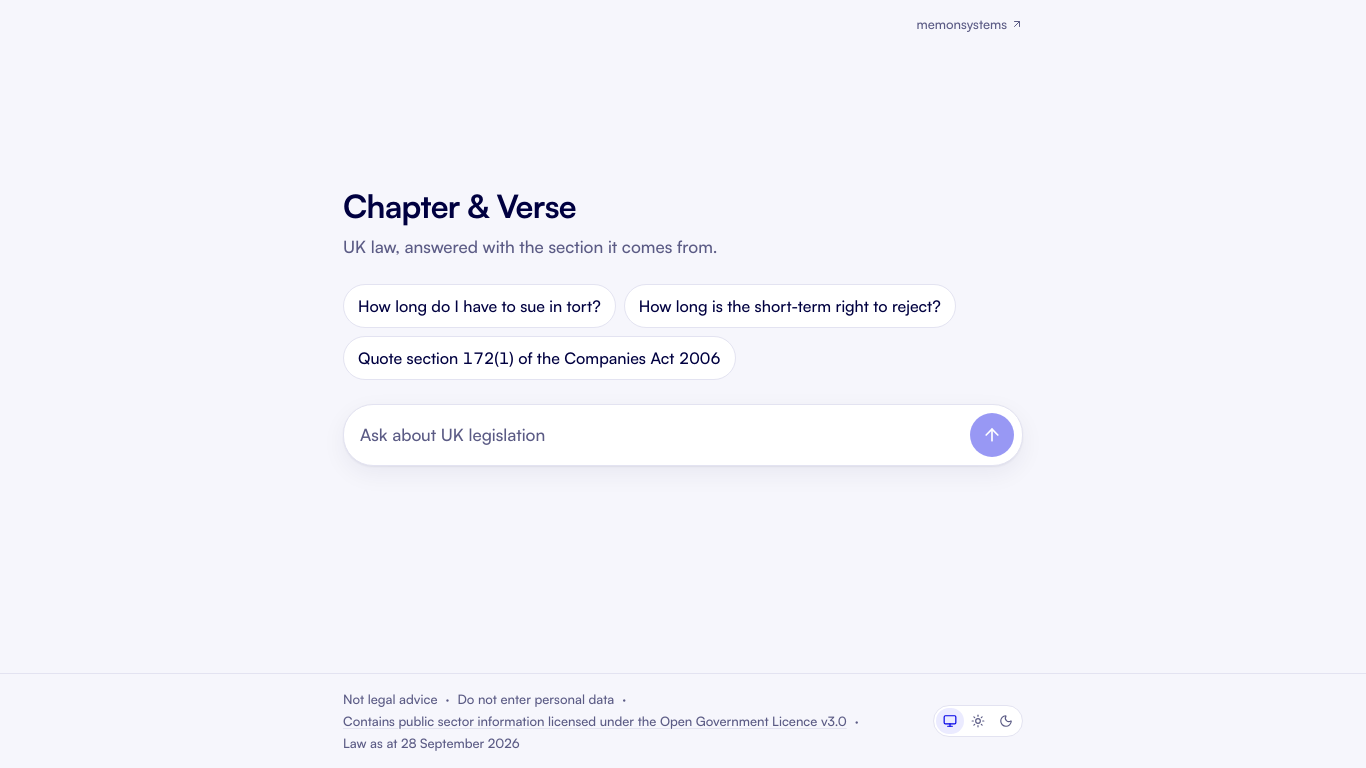
Test case: App empty state and shell › resets to the empty state, clears and focuses the composer, scrolls to top, and aborts an in-flight stream on Start over
In the text box with placeholder "Ask about UK legislation": [661, 435] box [360,413,962,457], type "In-flight question"
Then press Enter
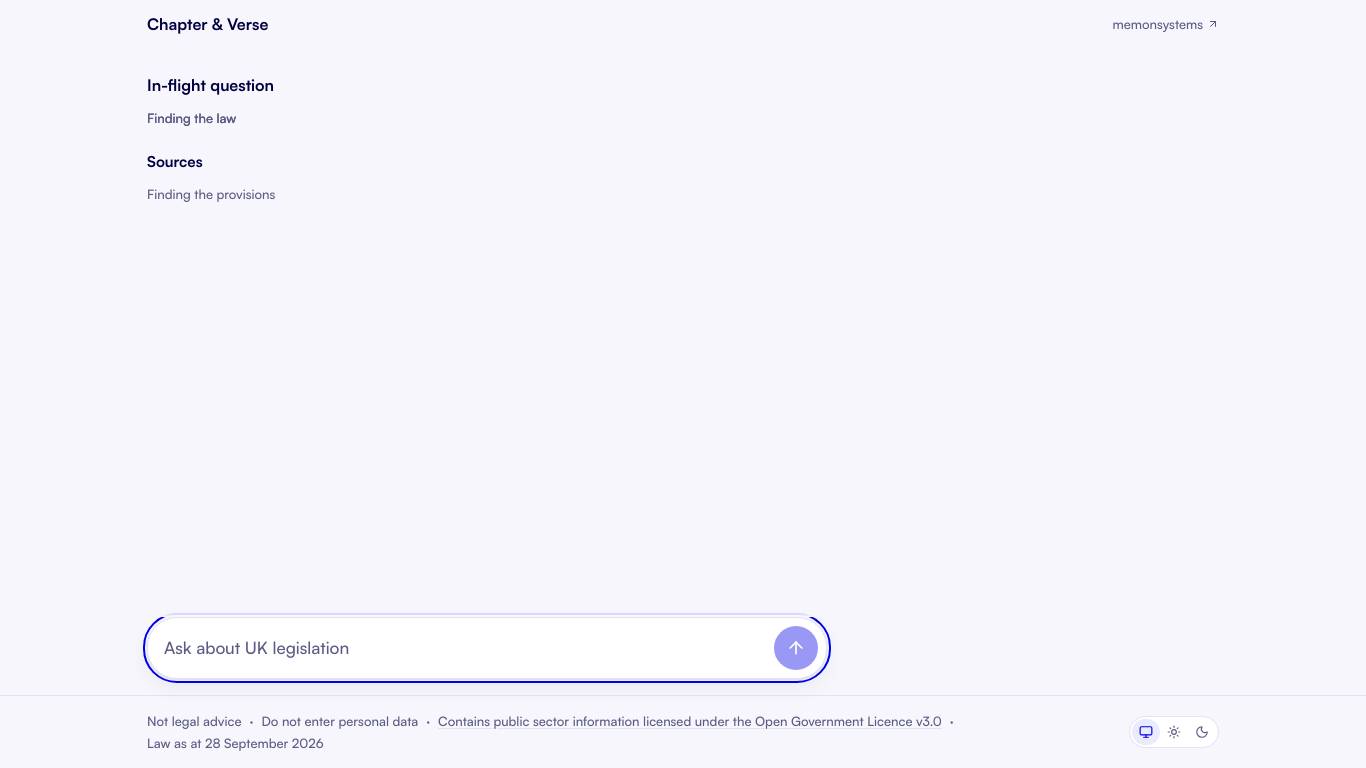
In the text box with placeholder "Ask about UK legislation": [465, 648] box [164,626,766,670], type "Draft follow-up"
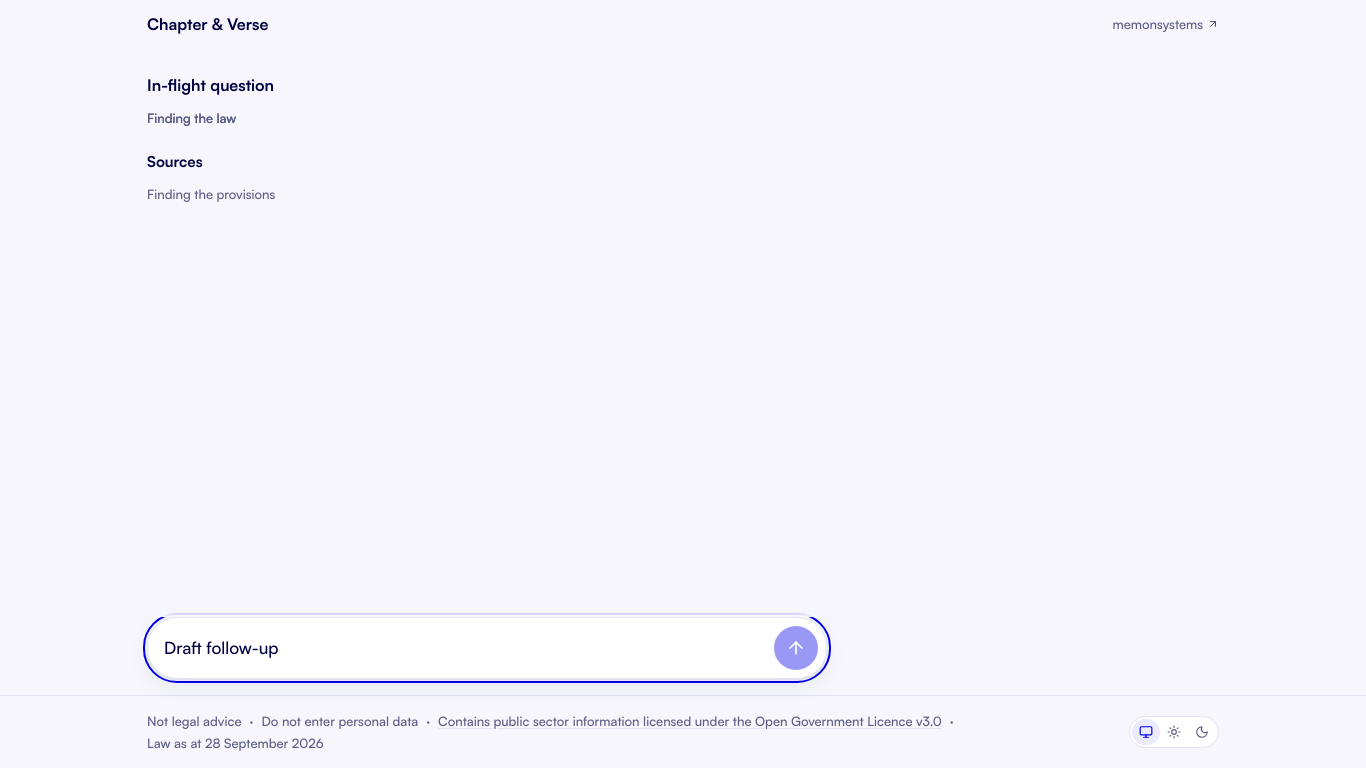
Click the button with aria-label "Start over": [208, 24] box [147,12,268,36]
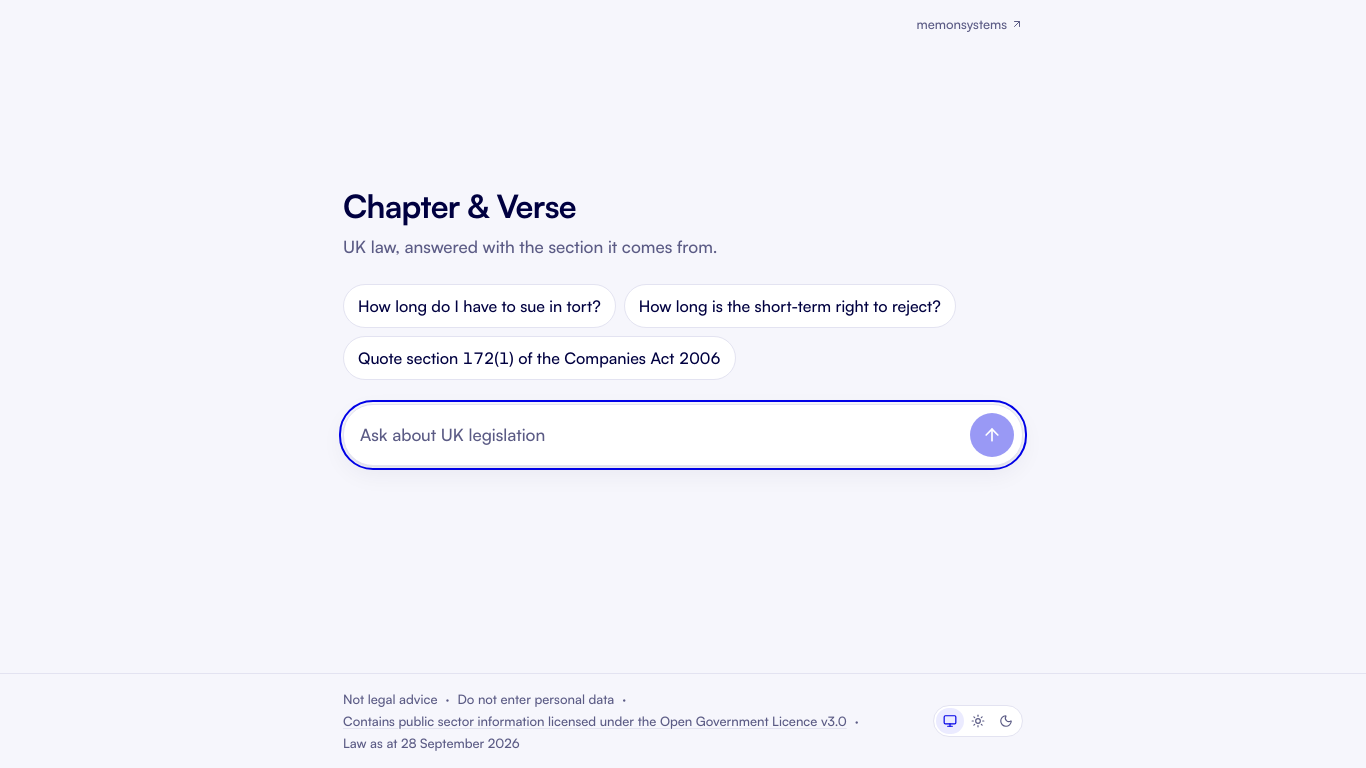
Now the heading "In-flight question" is gone
Now the text "UK law, answered with the section it comes from." is shown, box [343,236,718,257]
Now the list named "Example questions" is shown, box [343,284,1023,380]
